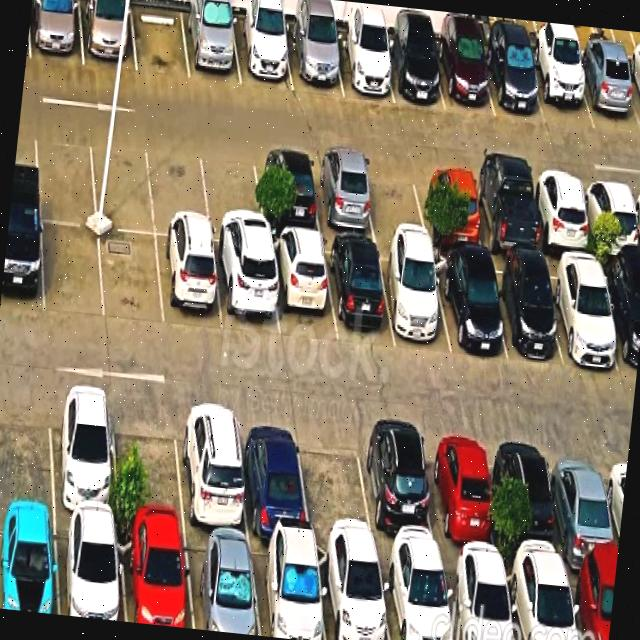empty: (297, 418, 375, 549), (112, 394, 185, 529), (0, 383, 53, 512), (199, 143, 265, 246), (89, 131, 154, 233), (99, 229, 163, 328), (148, 137, 210, 239), (34, 124, 96, 225), (42, 222, 104, 319), (361, 158, 427, 240), (131, 2, 189, 78)
occupied: (356, 423, 439, 555), (422, 427, 499, 562), (175, 402, 248, 536), (236, 409, 310, 539), (49, 386, 118, 521), (495, 433, 565, 566), (547, 439, 618, 570), (543, 258, 620, 368), (431, 253, 507, 359), (183, 531, 260, 635), (377, 245, 451, 353), (485, 257, 561, 360), (118, 525, 193, 628), (250, 539, 325, 640), (323, 239, 394, 344), (268, 234, 336, 341), (56, 516, 125, 621), (316, 545, 389, 640), (378, 554, 453, 640), (212, 243, 279, 338), (156, 236, 222, 331), (441, 557, 515, 640), (470, 169, 540, 256), (0, 512, 58, 614), (253, 149, 321, 234), (416, 164, 484, 248), (504, 562, 577, 640), (310, 153, 376, 237), (572, 52, 640, 133), (526, 49, 594, 129), (529, 173, 593, 255), (482, 40, 544, 123), (580, 176, 640, 259), (433, 36, 494, 116), (599, 262, 640, 376), (381, 35, 444, 109), (231, 15, 293, 90), (181, 8, 240, 85), (332, 30, 393, 102), (0, 213, 43, 314), (79, 0, 136, 70), (285, 25, 342, 94), (565, 567, 616, 640), (29, 0, 83, 64), (622, 59, 640, 122)
